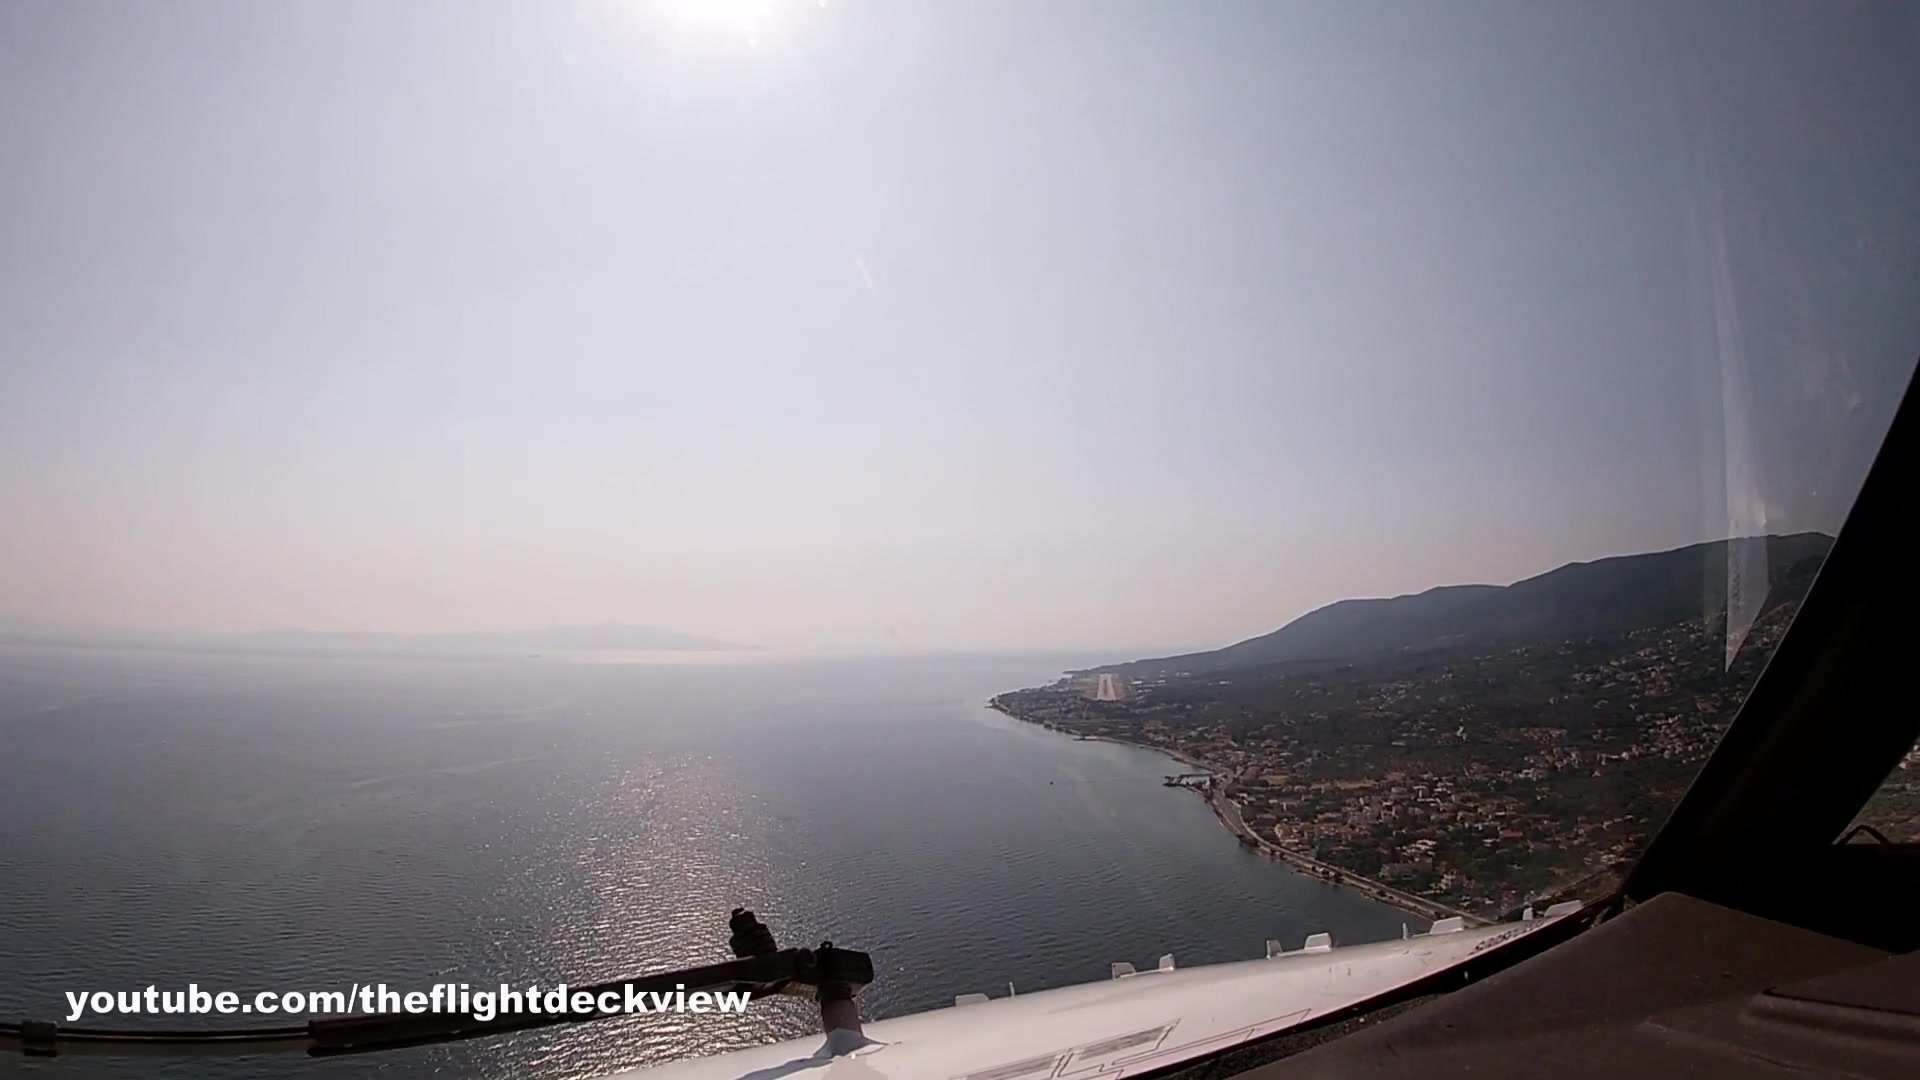runway: (1095, 673, 1117, 703)
